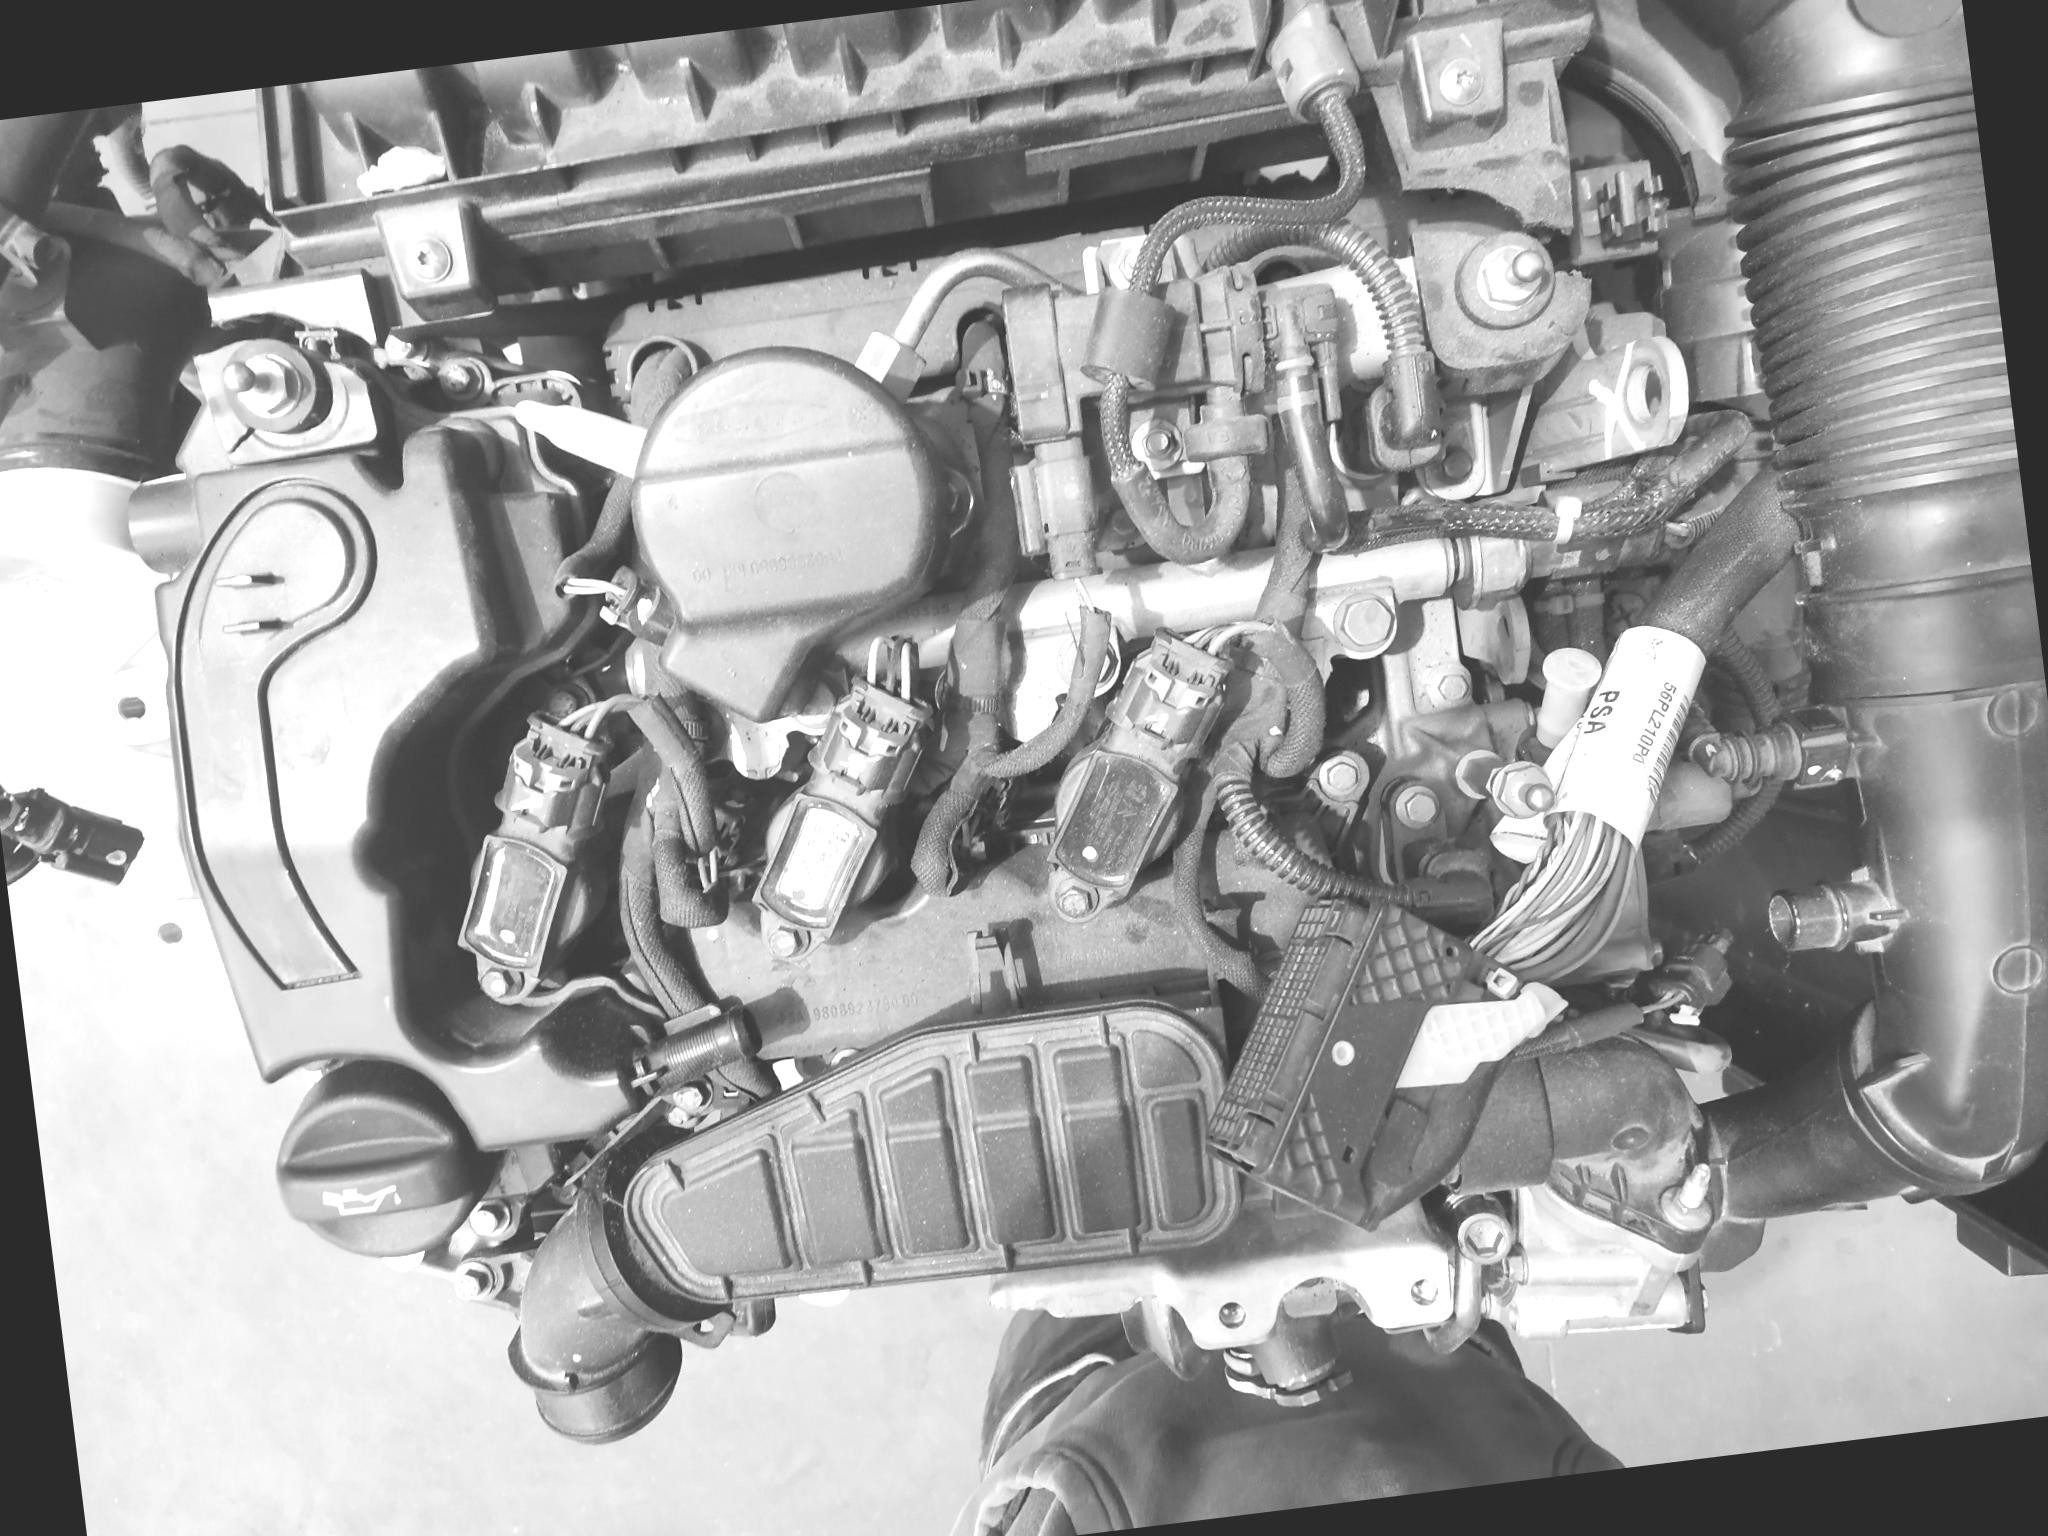hexagonal: (226, 347, 308, 427), (1477, 244, 1549, 310), (1333, 594, 1402, 658), (1132, 422, 1188, 474), (467, 956, 523, 1006), (1050, 877, 1098, 927), (761, 922, 807, 969), (1397, 786, 1441, 832), (1320, 754, 1364, 799), (1432, 668, 1474, 712)
torx: (1432, 54, 1494, 118), (400, 234, 456, 286)
